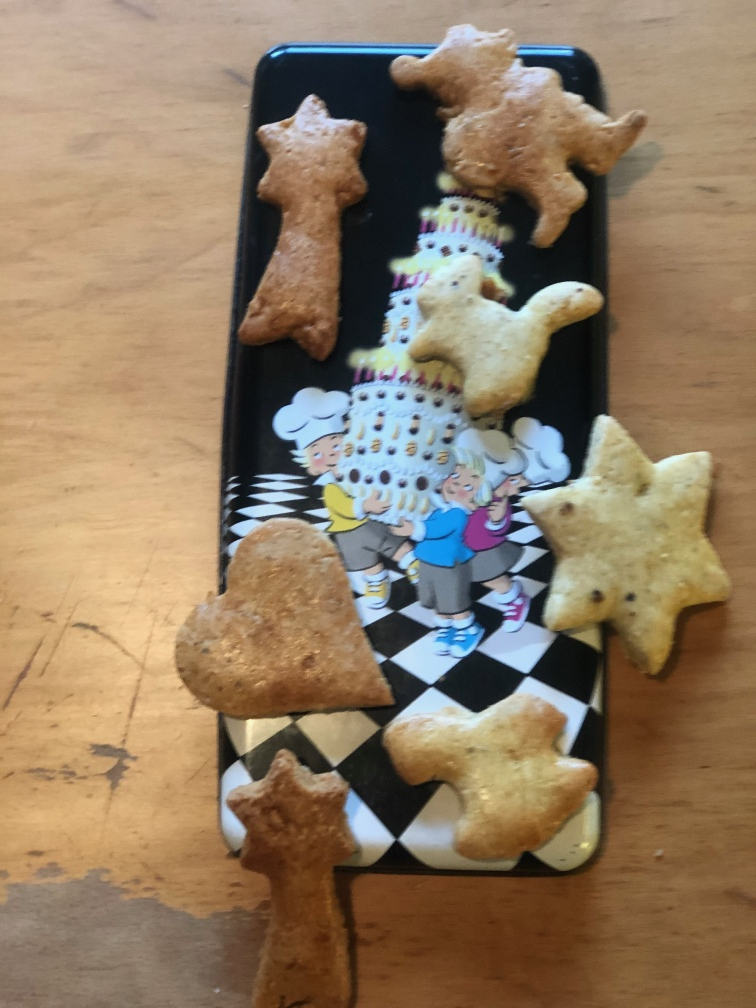heart: (168, 515, 398, 717)
lamb: (388, 689, 606, 867)
santa claus: (392, 15, 652, 251)
shooting star: (222, 93, 378, 360), (229, 740, 365, 1008)
squirrel: (401, 248, 602, 423)
star: (517, 409, 735, 676)
